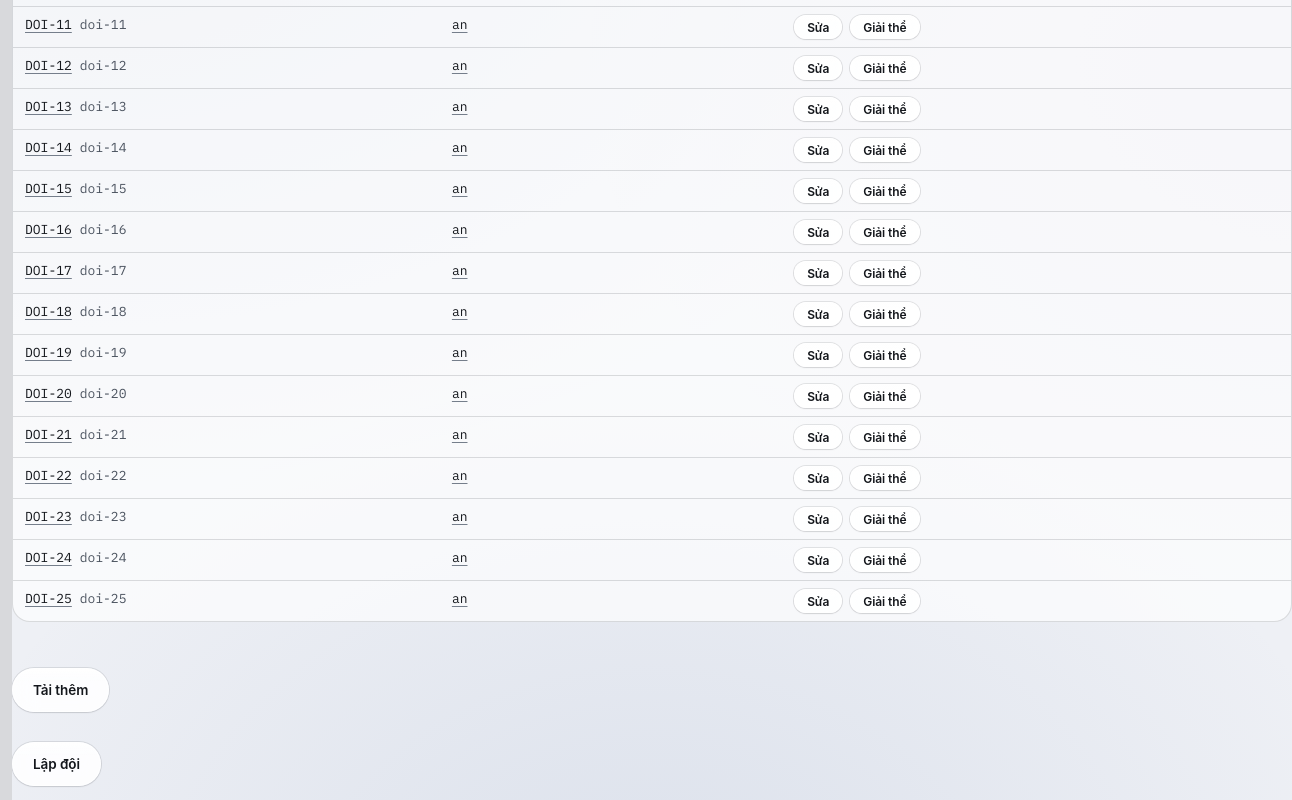
Test case: the org teams panel past one page › offers "load more" and sends the first page’s cursor to get the rest
(page scrolled)
Click the button "Tải thêm". click: (61, 690)
box: [12,668,109,712]
(page scrolled)
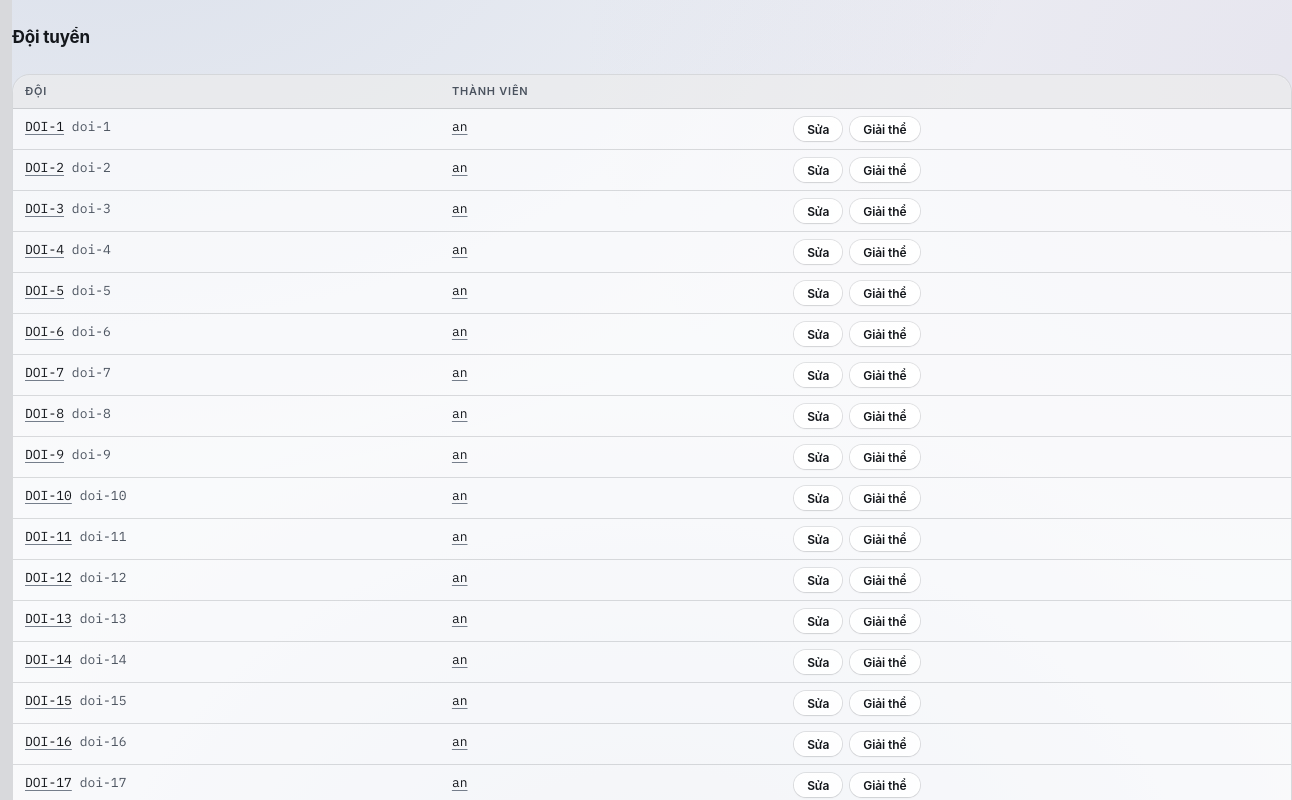
Expected: the link "DOI-1" is shown, [25,118,64,135]
Expected: the button "Tải thêm" is gone
